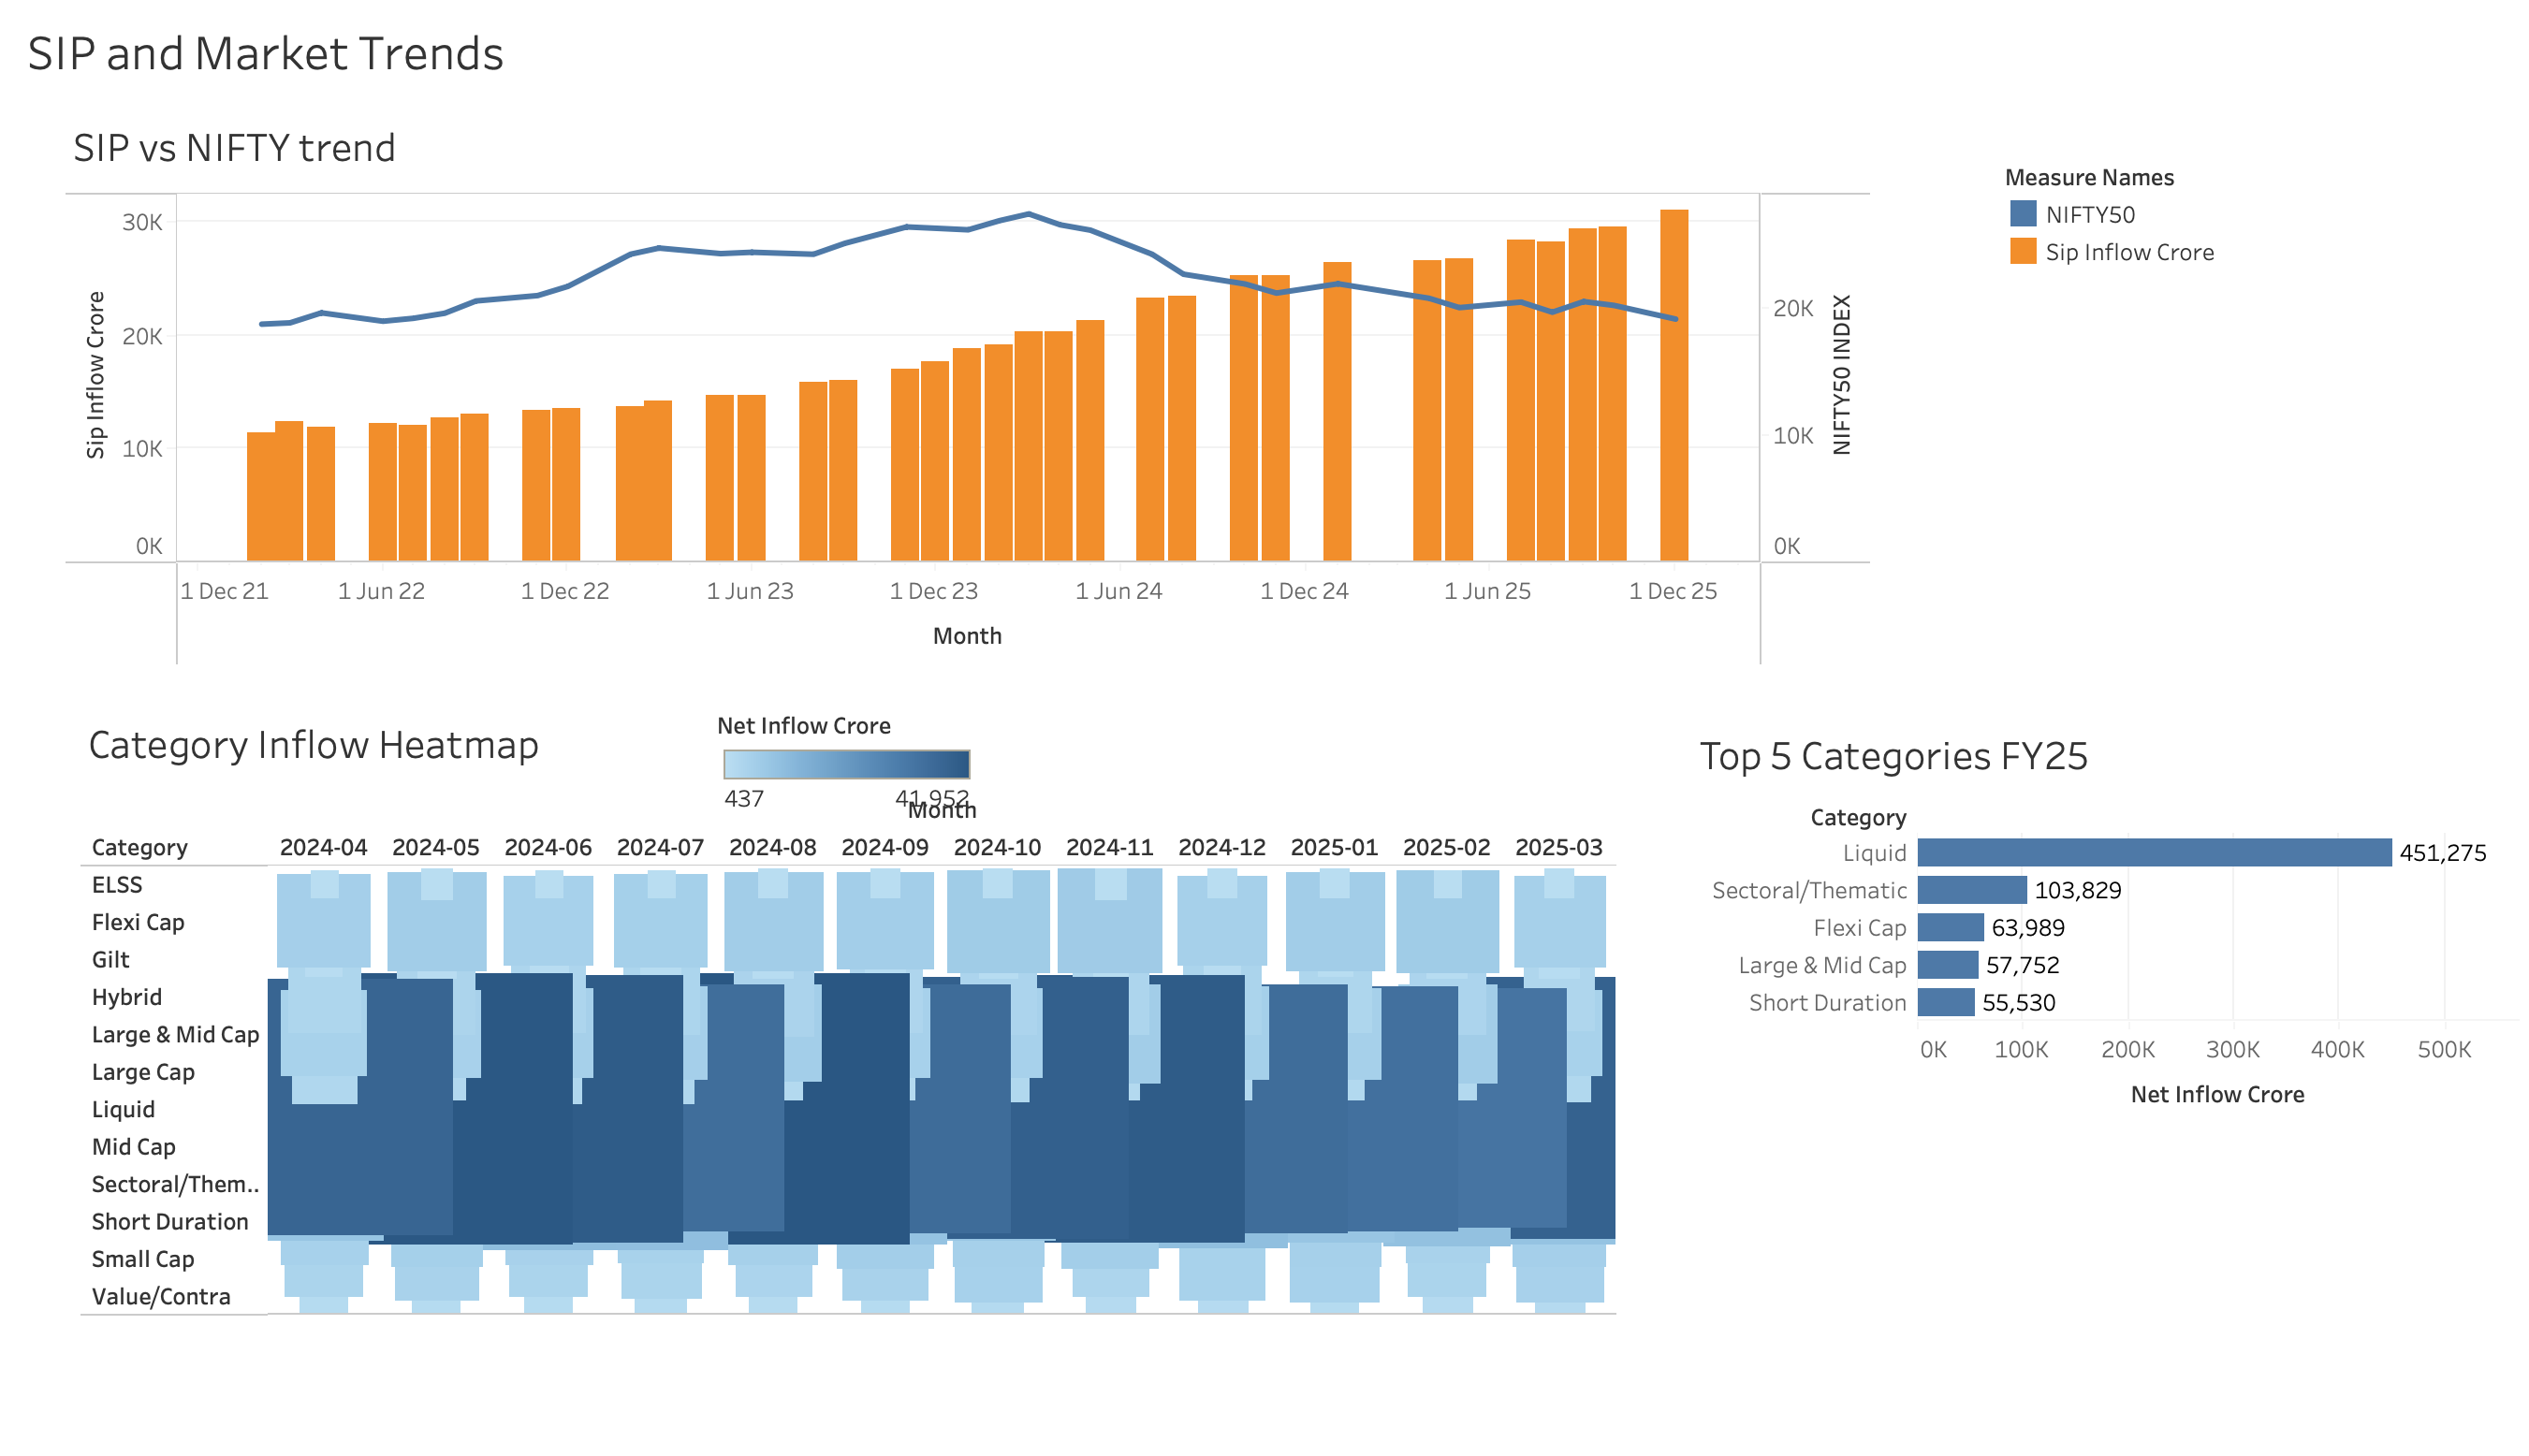

This screenshot's page, from the dashboard's own definition file:
{"tool":"tableau","page":{"name":"SIP and Market Trends","canvas":[1366,768],"ordinal":3},"visuals":[{"type":"title","box":[8,8,1350,42]},{"type":"worksheet","title":"SIP vs NIFTY trend ","mark":"Automatic","rows":["sip_inflow_crore","close_value"],"cols":["month"],"box":[35,61,965,296]},{"type":"legend","title":"SIP vs NIFTY trend ","param":"[federated.0llfp0h1d8upxs1ahmqmm1j8x9j0].[:Measure Names]","box":[1071,87,140,58]},{"type":"worksheet","title":"Categtory inflow heatmap","mark":"Square","rows":["category"],"cols":["month"],"box":[43,380,840,362]},{"type":"legend","title":"Categtory inflow heatmap","param":"[federated.1edmo2m0nm805t13ogjph09yv5e3].[sum:net_inflow_crore:qk]","box":[383,380,140,76]},{"type":"worksheet","title":"Top 5 Categories FY25","mark":"Automatic","rows":["category"],"cols":["net_inflow_crore"],"box":[904,386,442,345]}]}

Visuals, with their boxes in screenshot pixels (x1, y1, x2, y2), scaled from the page's 1366x768 canvas onto the 2529x1456 screenshot:
title: <bbox>15, 15, 2514, 95</bbox>
"SIP vs NIFTY trend " worksheet: <bbox>65, 116, 1851, 677</bbox>
"SIP vs NIFTY trend " legend: <bbox>1982, 165, 2242, 275</bbox>
"Categtory inflow heatmap" worksheet (Square marks): <bbox>80, 721, 1635, 1406</bbox>
"Categtory inflow heatmap" legend: <bbox>709, 721, 969, 865</bbox>
"Top 5 Categories FY25" worksheet: <bbox>1674, 732, 2492, 1386</bbox>
